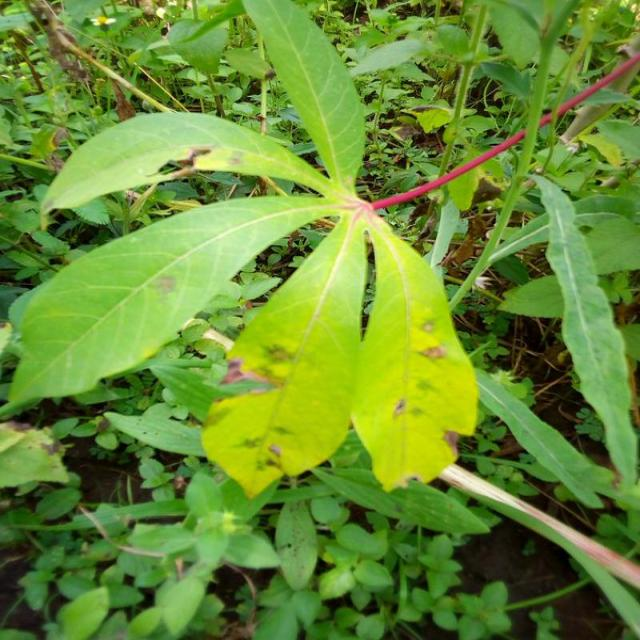cassava leaf: (3, 192, 339, 418), (200, 209, 367, 498), (350, 209, 479, 492), (38, 109, 332, 221), (240, 0, 366, 189)
